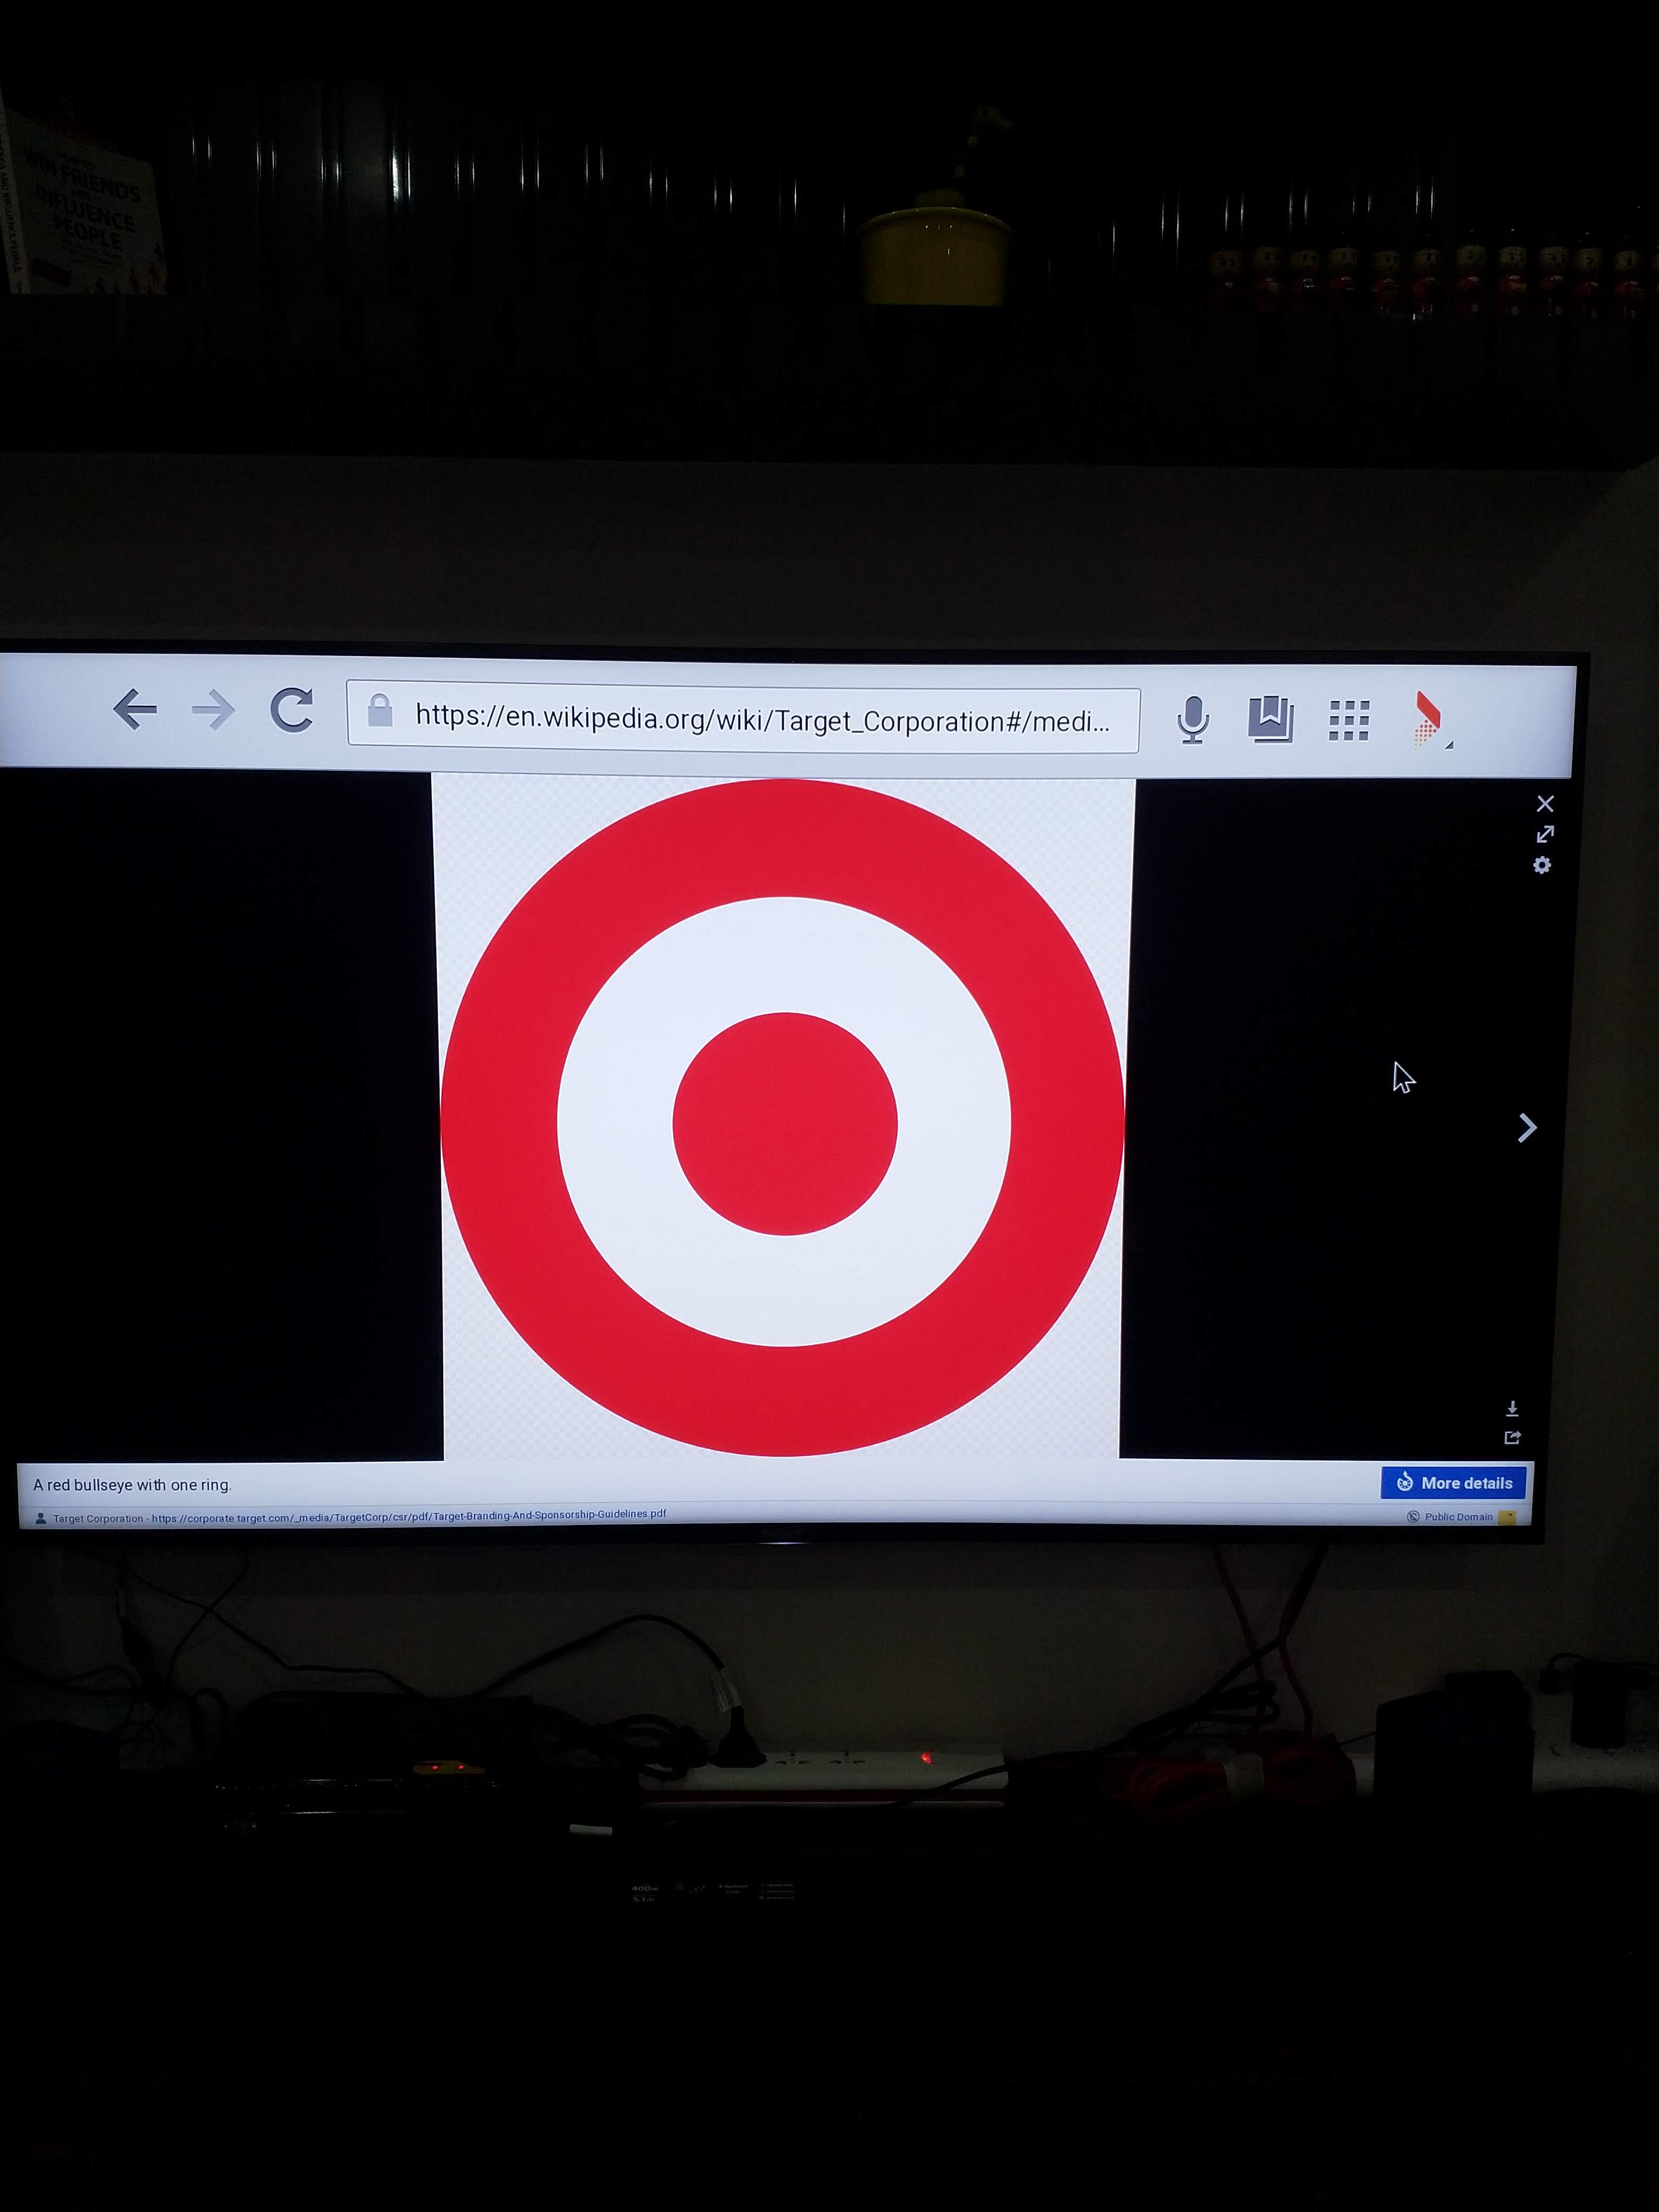bullseye: (430, 761, 1115, 1468)
